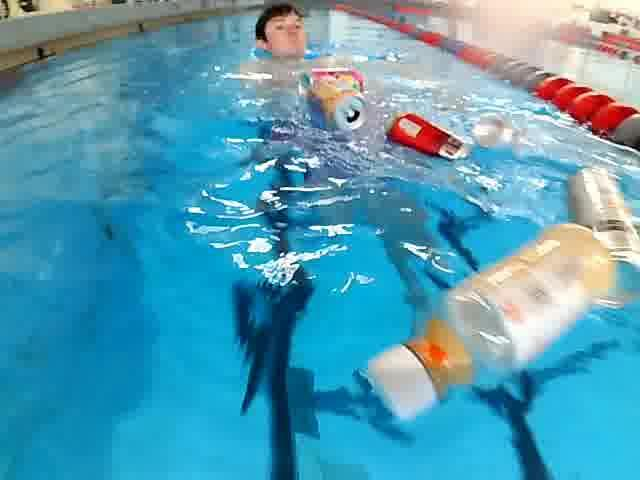Bottle: (343, 222, 620, 436), (462, 100, 544, 166)
Can: (562, 151, 639, 318), (377, 99, 477, 174), (300, 78, 375, 154), (292, 66, 394, 93)
